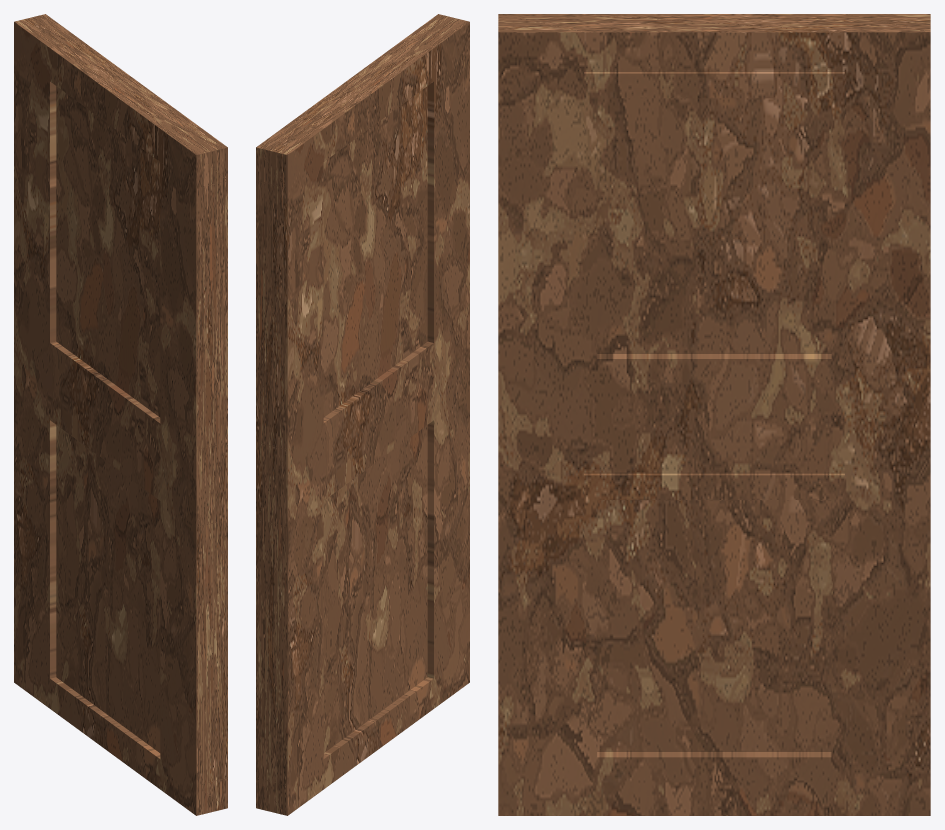
Rendered from door.obj.
3 renders of one model, left to right at view 1: azimuth 30°, elevation 25°; view 2: azimuth 150°, elevation 25°; view 3: azimuth 270°, elevation 25°, orthographic. The views are drawn at different scales.
Visible parts, largest first — view 1: Cube; view 2: Cube; view 3: Cube.
Boxes of the visible parts, box(x1,y1,x2,y2) form: Cube: box(14, 14, 227, 815); Cube: box(256, 14, 469, 815); Cube: box(498, 14, 930, 815).
Bounding box in the file's own units: 0.2189 × 4 × 2.
